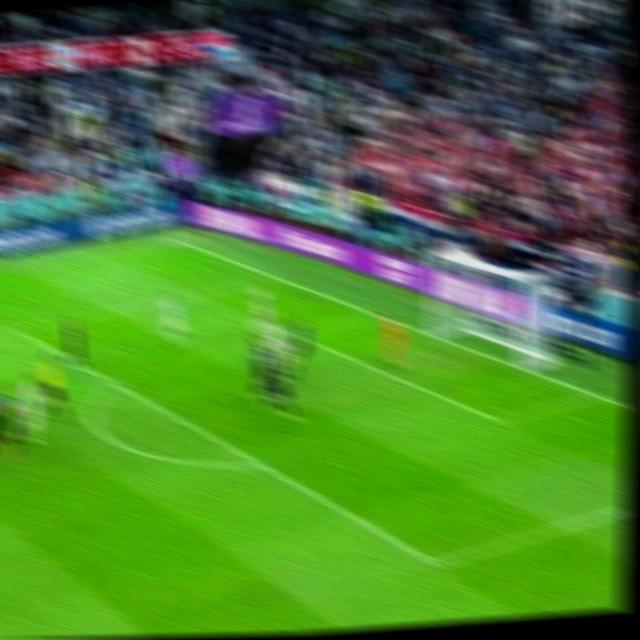bigarea_bottom_inner: (424, 551, 449, 578)
bigarea_top_inner: (7, 318, 27, 341)
bigarea_top_outter: (267, 271, 284, 283)
bottom_arc_area_intersection: (250, 453, 272, 476)
corner: (163, 237, 182, 245)
smallarea_bottom_inner: (489, 407, 511, 433)
smallarea_bottom_outter: (585, 386, 605, 404)
smallarea_top_inner: (284, 325, 303, 343)
smallarea_top_outter: (366, 308, 385, 321)
top_arc_area_intersection: (106, 374, 126, 397)
